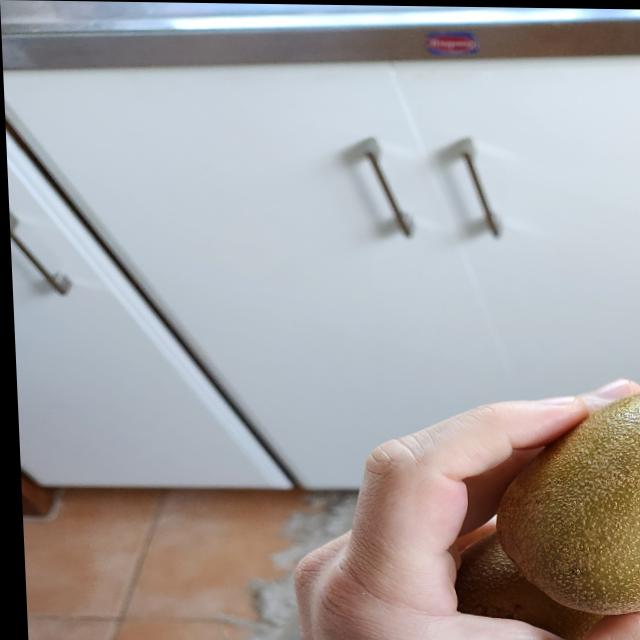kiwi: (485, 382, 640, 614)
